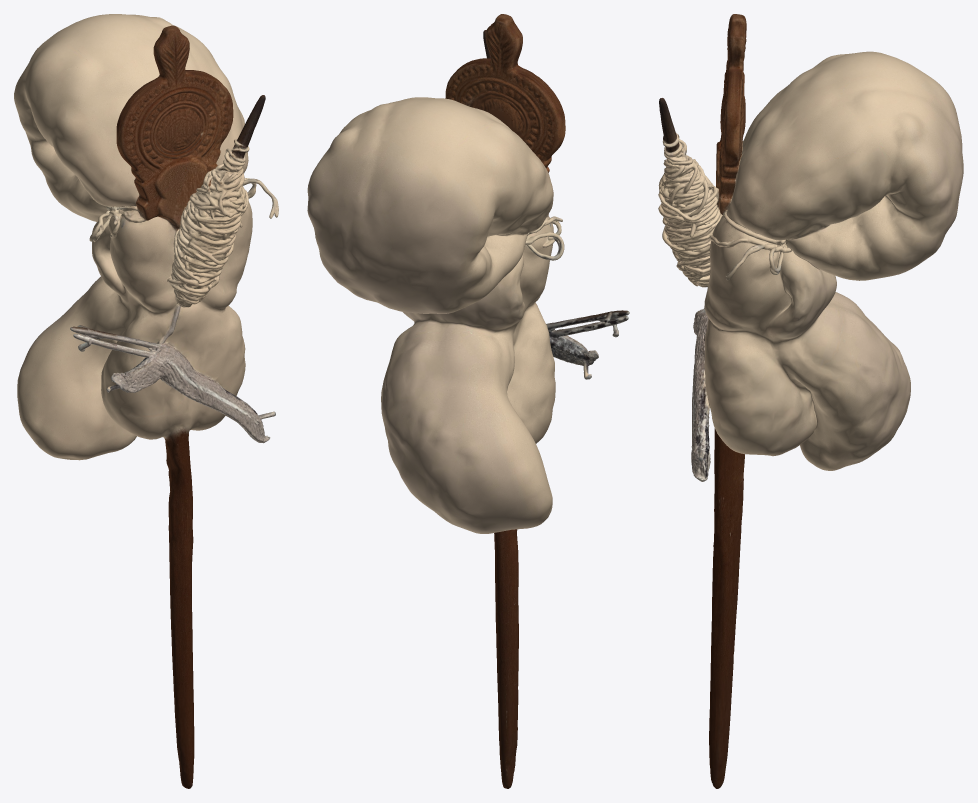
File: preslica-vreteno.glb
3 renders of one model, left to right at view 1: azimuth 30°, elevation 25°; view 2: azimuth 150°, elevation 25°; view 3: azimuth 270°, elevation 25°, orthographic. The views are drawn at different scales.
Bounding box in the file's own units: 0.57 × 1.9 × 0.6848.
1 material, 1 textured.
